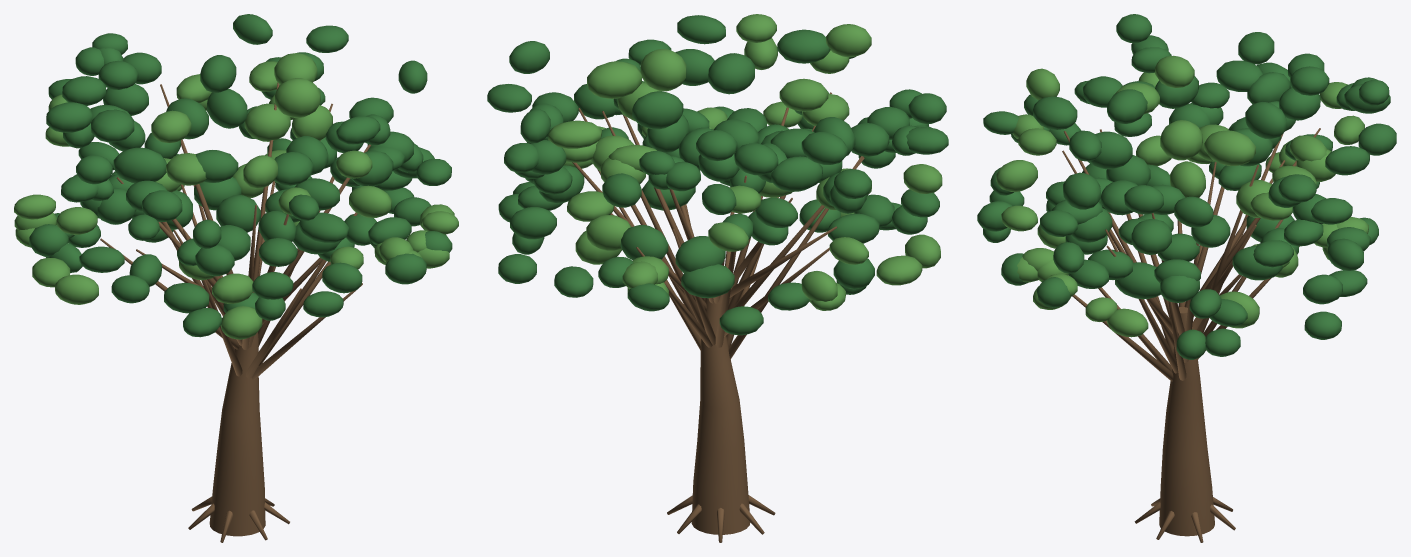
The model's file is rorng_city_neoq_tree_round.glb.
The picture shows the model from 3 angles, left to right: view 1: azimuth 30°, elevation 25°; view 2: azimuth 150°, elevation 25°; view 3: azimuth 270°, elevation 25°; orthographic projection. The views are drawn at different scales.
Parts seen in each view (by area): view 1: rorng_city_neoq_tree_round_lod0; view 2: rorng_city_neoq_tree_round_lod0; view 3: rorng_city_neoq_tree_round_lod0.
Boxes of the visible parts, x1,y1,x2,y2 form: rorng_city_neoq_tree_round_lod0: [14, 14, 458, 542]; rorng_city_neoq_tree_round_lod0: [487, 14, 948, 542]; rorng_city_neoq_tree_round_lod0: [977, 14, 1396, 542].
Size of what is drawn, in the model's own units: 7.52 by 7.99 by 7.05.
